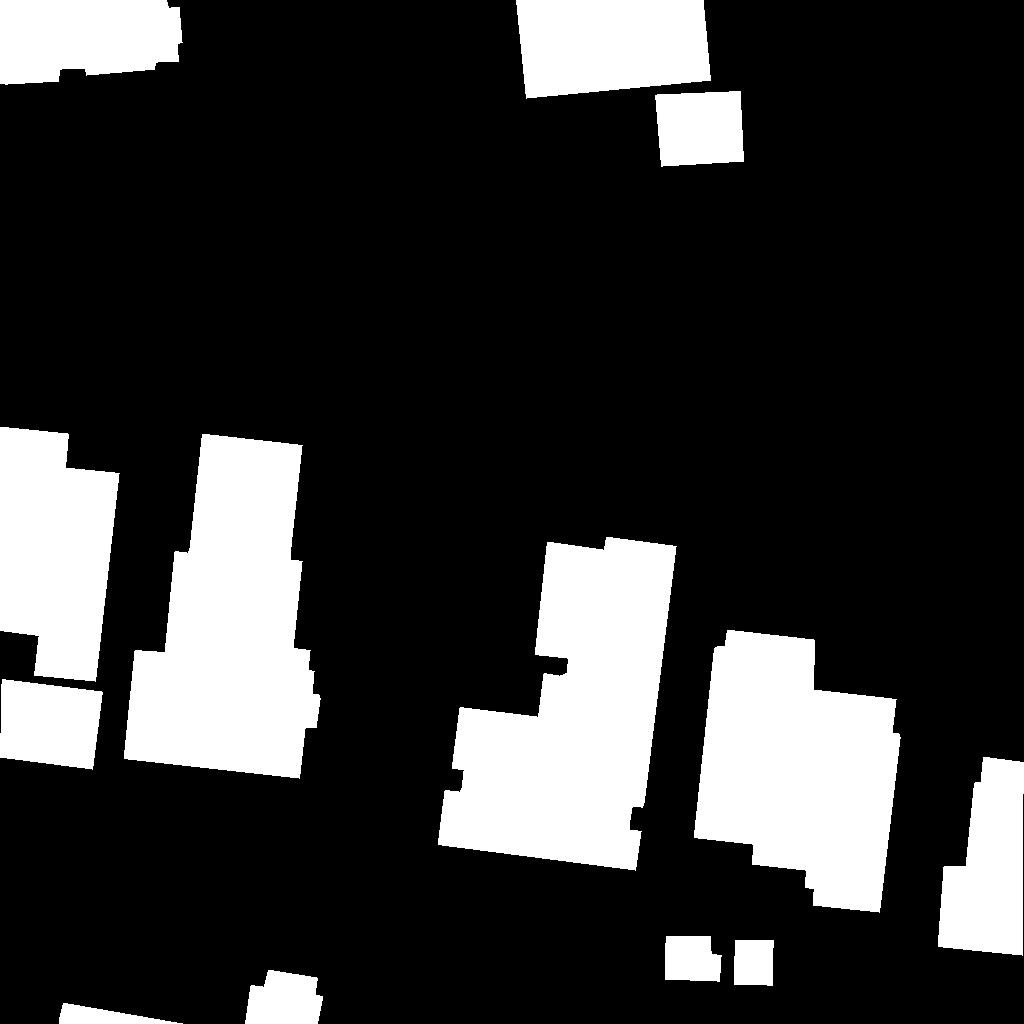building: (438, 537, 677, 871), (124, 434, 321, 779), (694, 630, 901, 913), (0, 427, 120, 682), (516, 0, 712, 99), (938, 757, 1024, 956), (0, 0, 183, 85), (59, 970, 324, 1024), (0, 679, 104, 770), (655, 91, 745, 167), (665, 936, 722, 982), (734, 940, 774, 986)
